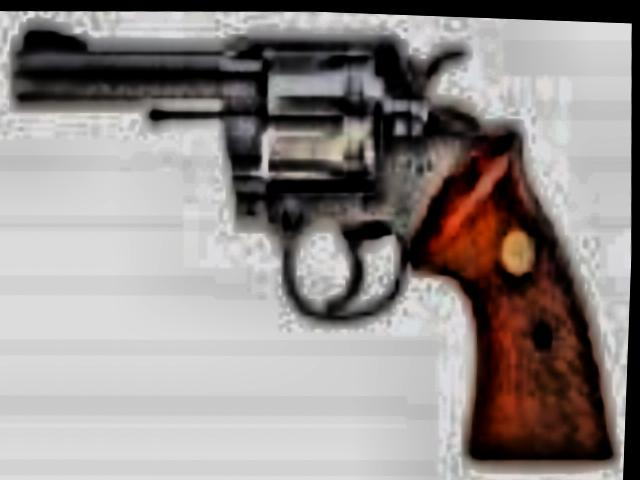pistol: (0, 0, 631, 472)
